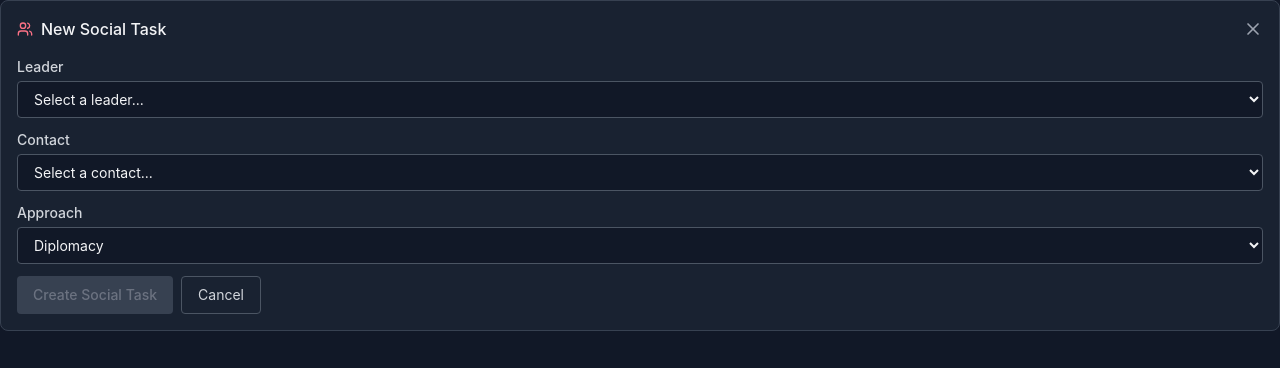
Test: SocialTaskForm › marks a placed contact when the party is elsewhere
Step 1. Select "Dockworkers' Guild (−2)" in the dropdown with test id "contact-select" → (640, 172), box top-left (17, 154), bottom-right (1263, 191)
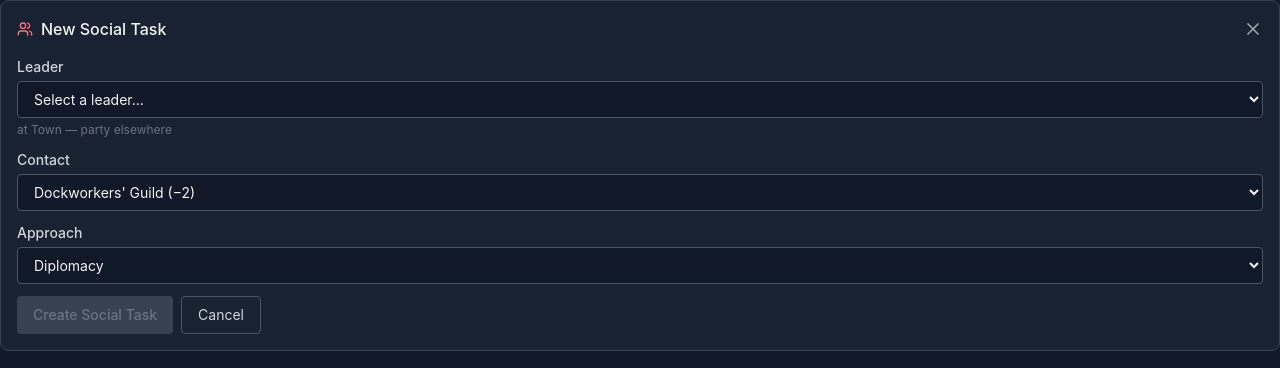
Now the text with test id "contact-presence-hint" reads "at Town — party elsewhere", box top-left (17, 122), bottom-right (172, 137)
